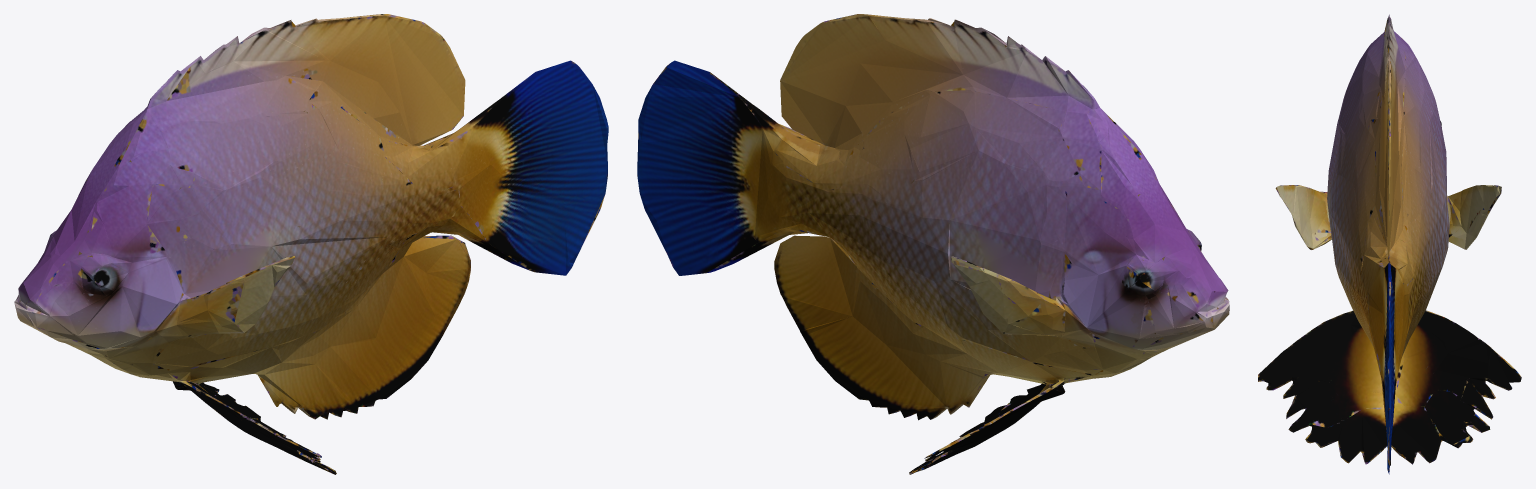
Rendered from fish_0117_smpl23_resized.glb.
3 renders of one model, left to right at view 1: azimuth 30°, elevation 25°; view 2: azimuth 150°, elevation 25°; view 3: azimuth 270°, elevation 25°, orthographic. The views are drawn at different scales.
Visible parts, largest first — view 1: world; view 2: world; view 3: world.
Part boxes in pixels (x1=…): world: x1=14, y1=14, x2=608, y2=474; world: x1=637, y1=14, x2=1229, y2=474; world: x1=1258, y1=14, x2=1521, y2=474.
Bounding box in the file's own units: 1.99 × 1.42 × 0.8231.
Materials: 1 (1 with a texture image).
